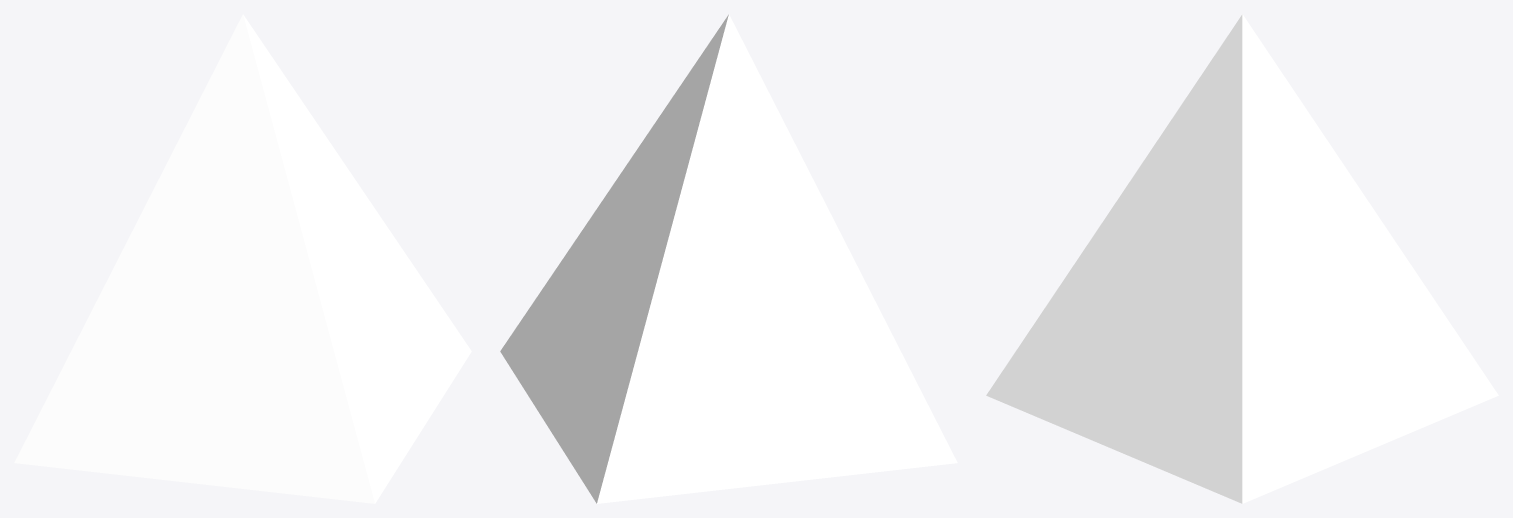
The model's file is BasePyramid.009.glb.
3 views of the same model, side by side, from view 1: azimuth 30°, elevation 25°; view 2: azimuth 150°, elevation 25°; view 3: azimuth 270°, elevation 25° (orthographic). The views are drawn at different scales.
Parts seen in each view (by area): view 1: BasePyramid.009; view 2: BasePyramid.009; view 3: BasePyramid.009.
Part boxes in pixels (<box>): BasePyramid.009: <box>14,14,471,503</box>; BasePyramid.009: <box>500,14,957,503</box>; BasePyramid.009: <box>986,14,1498,503</box>.
Size of what is drawn, in the model's own units: 0.9142 by 0.7506 by 0.9142.
1 material, 1 textured.
